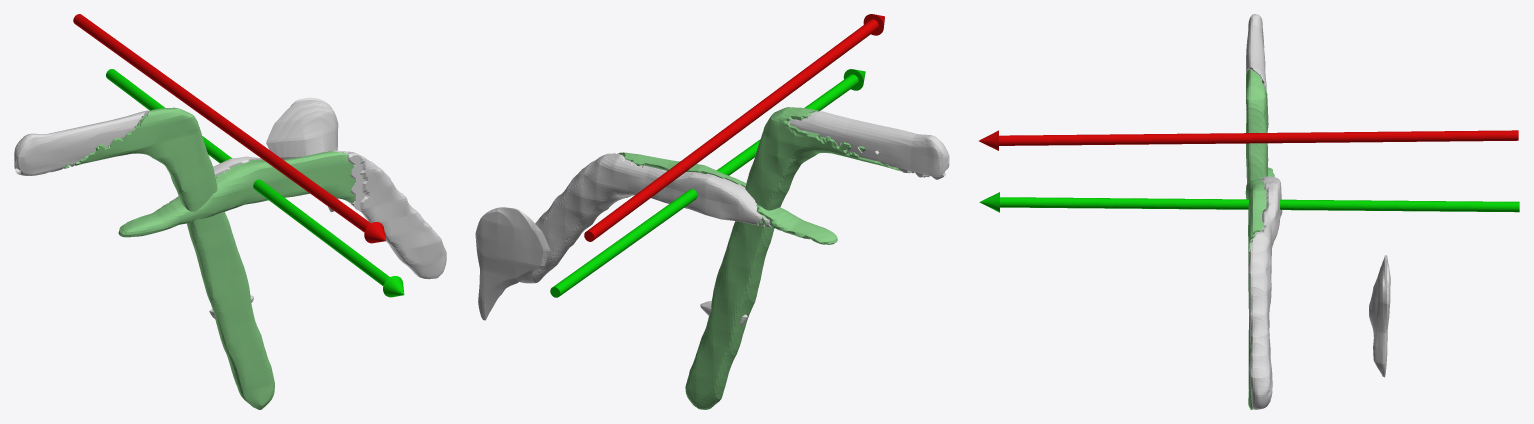
3 views of the same model, side by side, from view 1: azimuth 30°, elevation 25°; view 2: azimuth 150°, elevation 25°; view 3: azimuth 270°, elevation 25° (orthographic). The views are drawn at different scales.
Parts seen in each view (by area): view 1: mobile_part_0, static_part_1, world, mobile_part_1, static_part_0; view 2: static_part_1, mobile_part_0, world, static_part_0, mobile_part_1; view 3: world, static_part_1, mobile_part_0, static_part_0, mobile_part_1.
Boxes of the visible parts, x1,y1,x2,y2 form: mobile_part_0: (64,107,274,409); static_part_1: (169,97,446,319); world: (73,14,404,297); mobile_part_1: (118,151,354,237); static_part_0: (14,110,149,175); static_part_1: (475,153,771,326); mobile_part_0: (685,107,901,409); world: (550,14,884,297); static_part_0: (789,111,949,179); mobile_part_1: (617,152,837,244); world: (979,130,1519,212); static_part_1: (1248,176,1390,409); mobile_part_0: (1246,69,1268,409); static_part_0: (1246,14,1266,89); mobile_part_1: (1245,167,1274,257).
Bounding box in the file's own units: 0.8646 × 0.6269 × 1.04.
